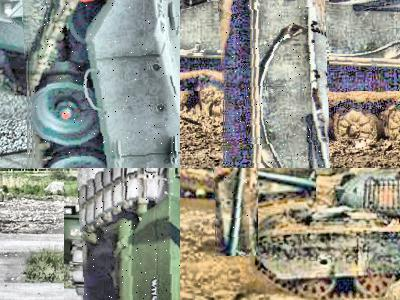tanks: (28, 1, 181, 169), (248, 169, 400, 299), (224, 1, 330, 169), (79, 169, 181, 300), (181, 169, 314, 207), (226, 169, 247, 257)
